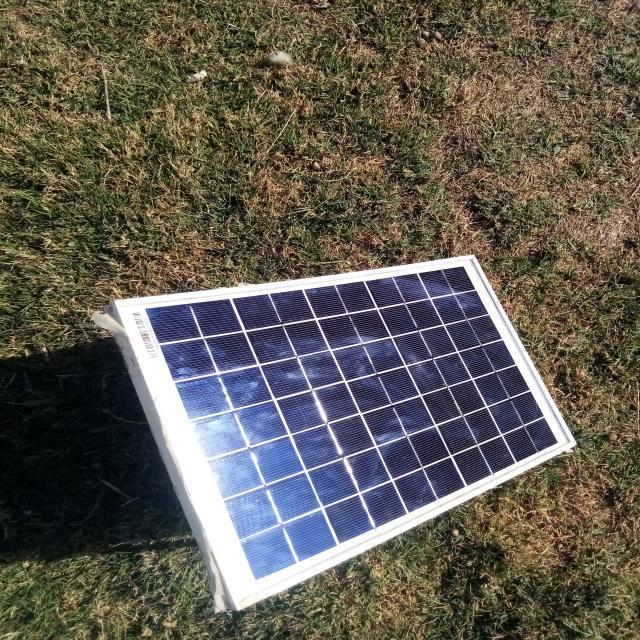no faulty: (116, 255, 578, 611)
